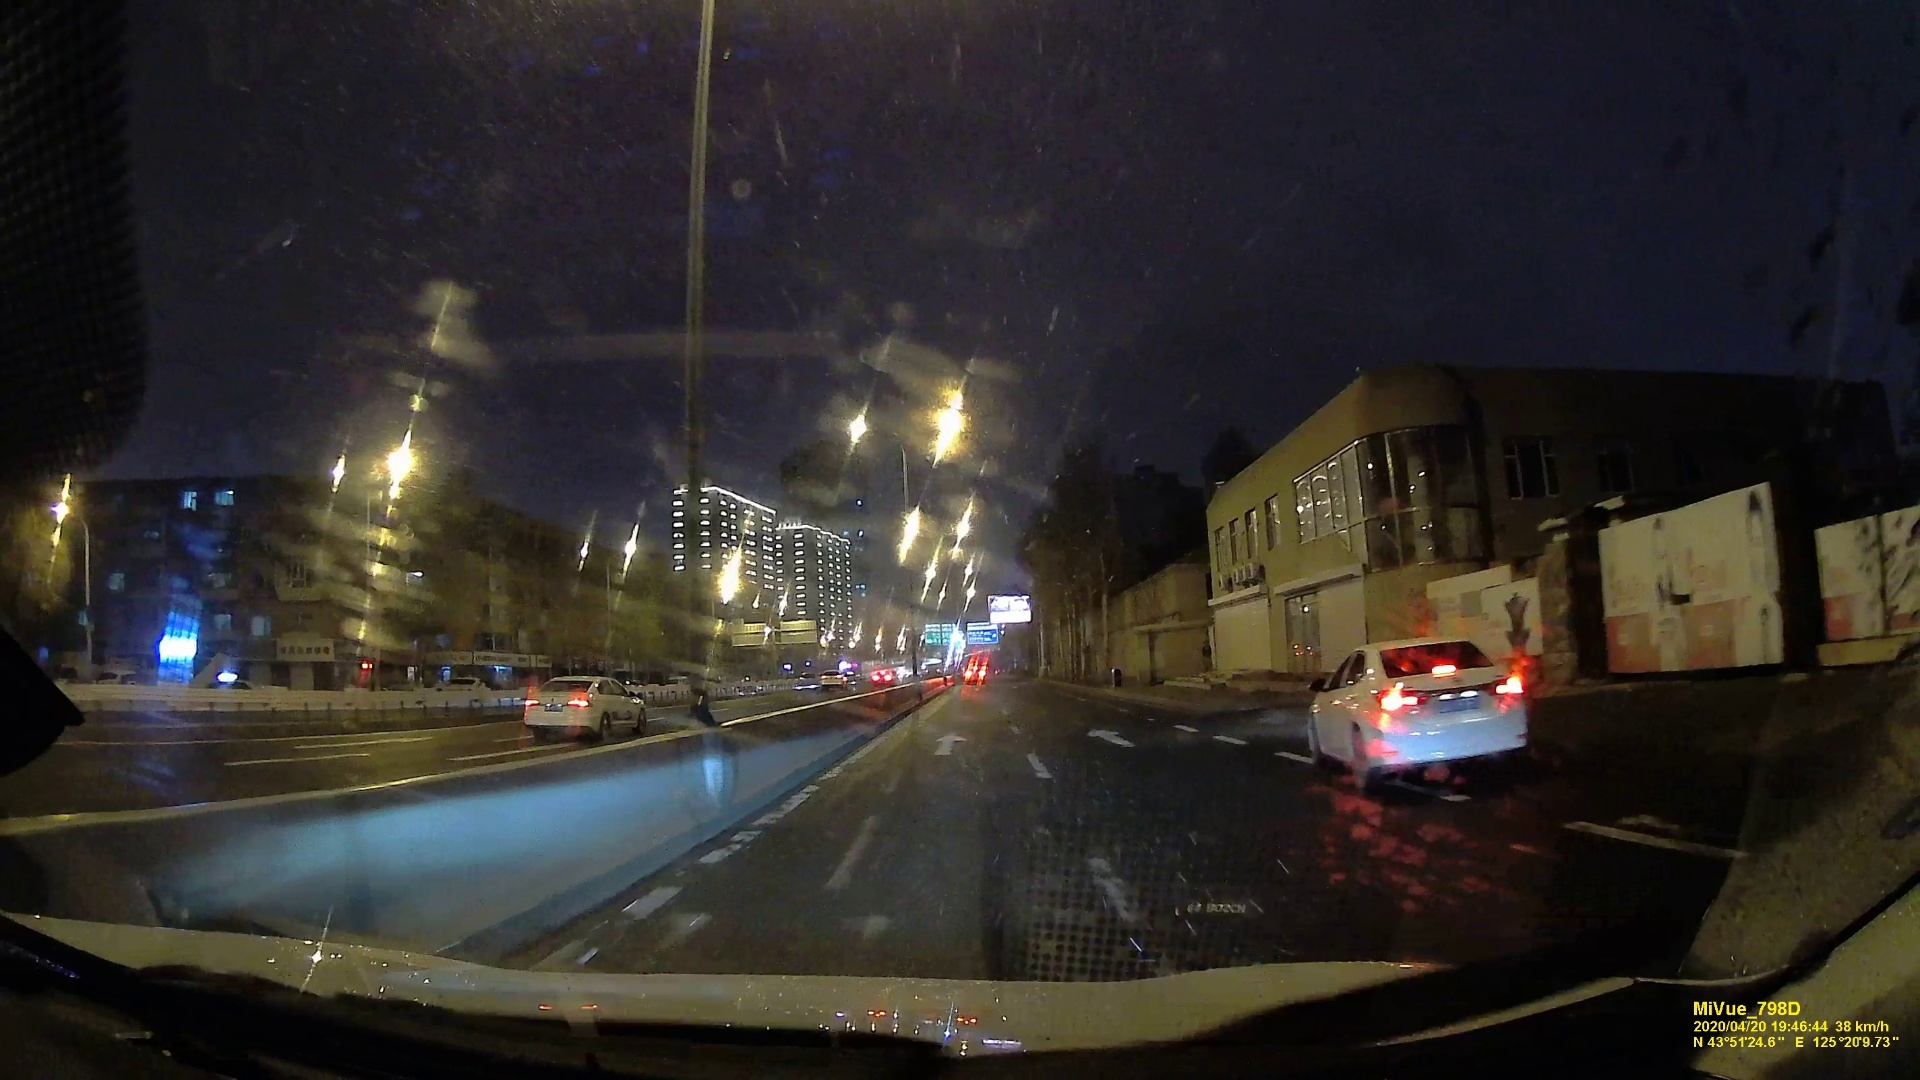traffic_sign: (923, 624, 956, 645), (967, 622, 997, 645)
vehicle: (1303, 630, 1532, 787), (518, 673, 651, 742), (963, 665, 986, 682), (870, 669, 895, 683)
